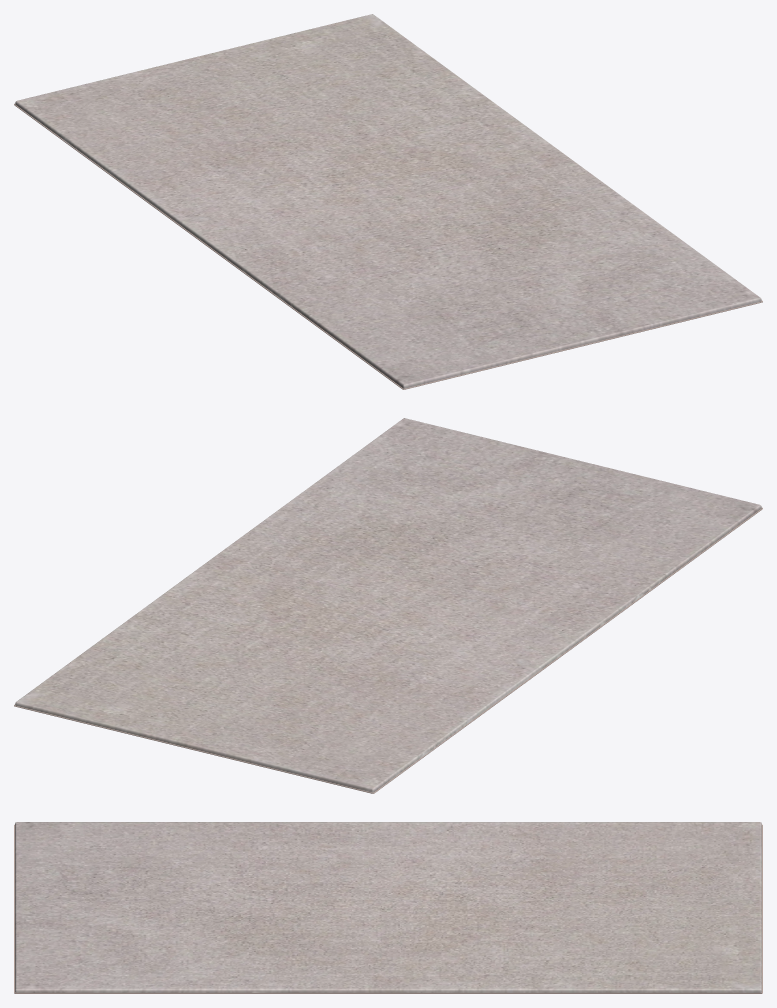
File: 22 - LINDKNUD Rug, high pile - beige 80x150 cm.glb
3 renders of one model, top to bottom at view 1: azimuth 30°, elevation 25°; view 2: azimuth 150°, elevation 25°; view 3: azimuth 270°, elevation 25°, orthographic. The views are drawn at different scales.
Visible parts, largest first — view 1: Mesh_0; view 2: Mesh_0; view 3: Mesh_0.
Part boxes in pixels (<box>): Mesh_0: <box>14,14,762,389</box>; Mesh_0: <box>14,418,762,793</box>; Mesh_0: <box>14,822,762,993</box>.
Bounding box in the file's own units: 0.7973 × 0.00894 × 1.49.
1 material, 1 textured.
